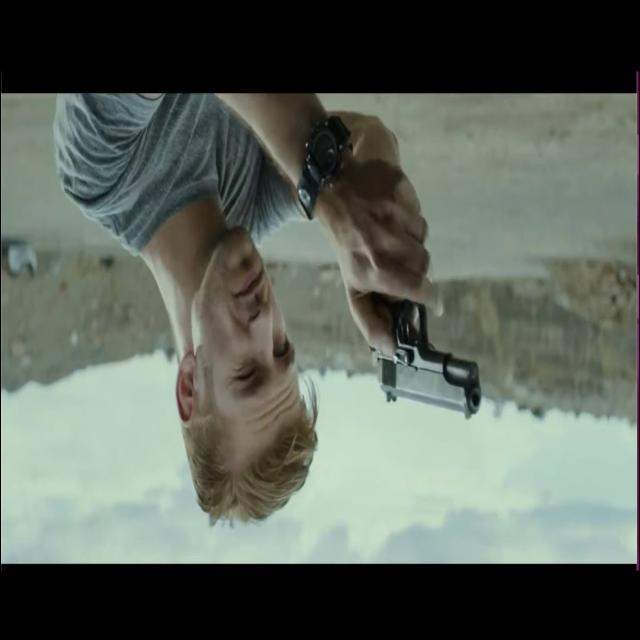weapons: (357, 227, 488, 438)
